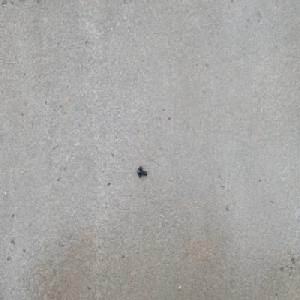BoltWasher: (137, 165, 147, 178)
